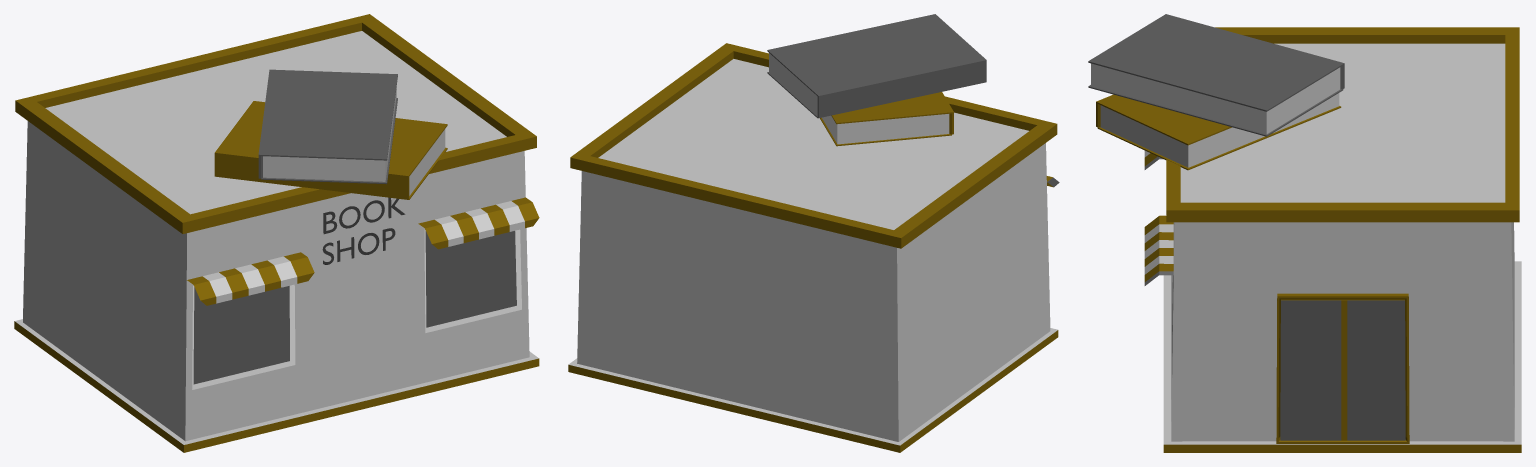
The model's file is Book Shop_BODY.008.glb.
3 views of the same model, side by side, from view 1: azimuth 30°, elevation 25°; view 2: azimuth 150°, elevation 25°; view 3: azimuth 270°, elevation 25° (orthographic). The views are drawn at different scales.
Visible parts, largest first — view 1: Book Shop_BODY.008_0; view 2: Book Shop_BODY.008_0; view 3: Book Shop_BODY.008_0.
Part boxes in pixels (bbox=[...]): Book Shop_BODY.008_0: bbox=[14, 14, 539, 452]; Book Shop_BODY.008_0: bbox=[568, 14, 1059, 452]; Book Shop_BODY.008_0: bbox=[1088, 14, 1521, 452].
Bounding box in the file's own units: 2.22 × 1.67 × 2.22.
Materials: 1 (1 with a texture image).
